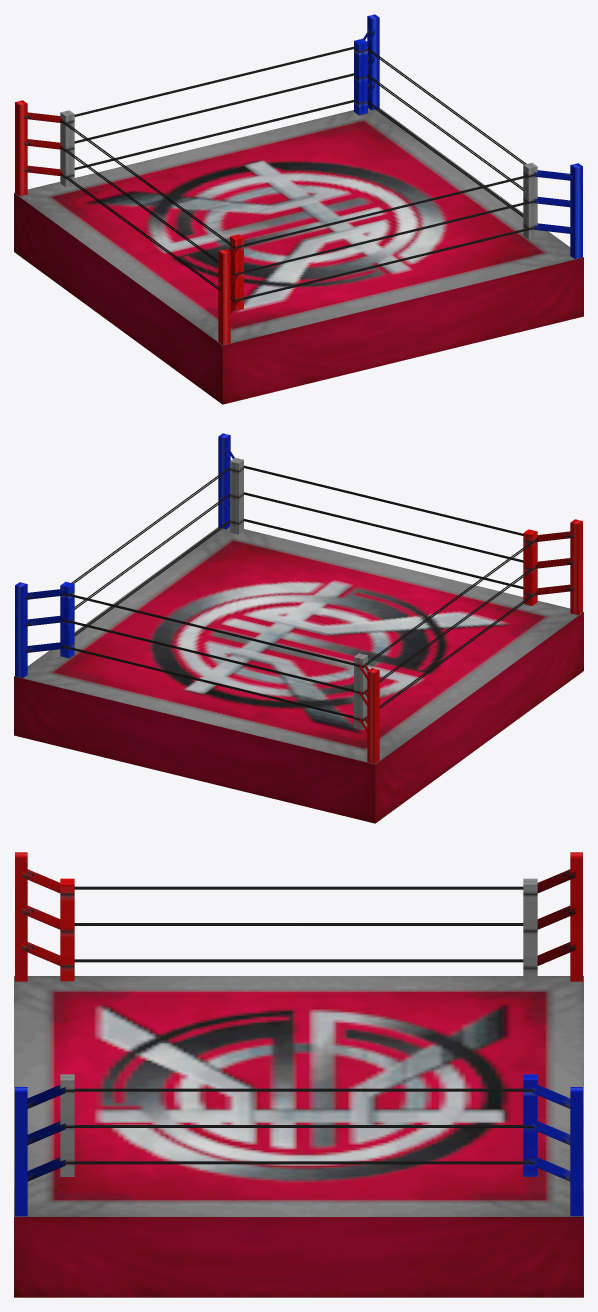
The model's file is copy.ico.obj.
3 renders of one model, top to bottom at view 1: azimuth 30°, elevation 25°; view 2: azimuth 150°, elevation 25°; view 3: azimuth 270°, elevation 25°, orthographic. The views are drawn at different scales.
Bounding box in the file's own units: 3.84 × 1.52 × 3.84.
Materials: 1 (1 with a texture image).
